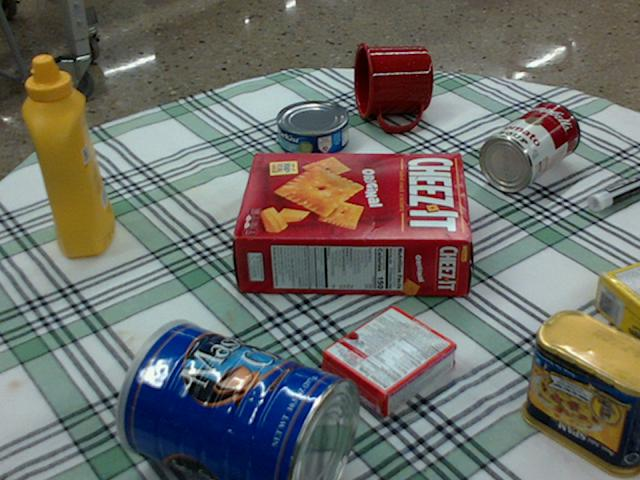cracker_box: (231, 150, 467, 298)
gelatin_box: (321, 305, 457, 413)
large_marker: (587, 175, 639, 209)
master_chef_can: (114, 322, 358, 479)
mug: (352, 41, 433, 130)
mustard_bottle: (22, 55, 114, 257)
potted_meat_can: (521, 307, 639, 473)
sugar_box: (596, 264, 639, 349)
tomato_soup_can: (478, 101, 579, 190)
tuna_fish_can: (276, 100, 348, 156)
